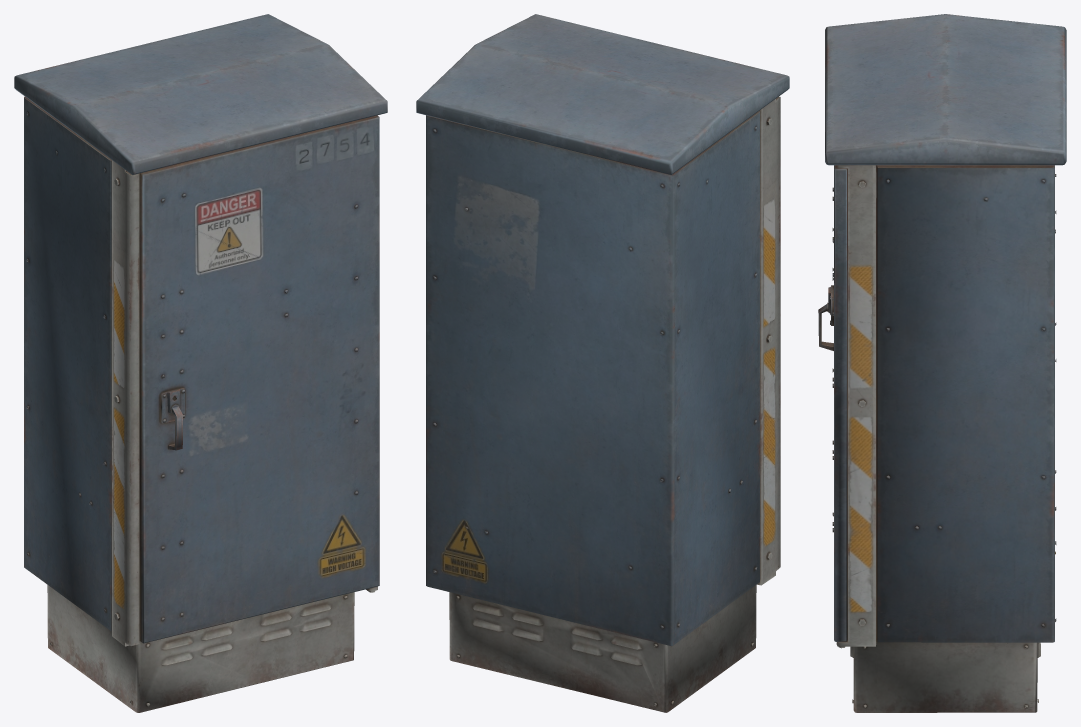
The model's file is utility_box_01.glb.
The picture shows the model from 3 angles, left to right: view 1: azimuth 30°, elevation 25°; view 2: azimuth 150°, elevation 25°; view 3: azimuth 270°, elevation 25°; orthographic projection.
Visible parts, largest first — view 1: utility_box_01_box; view 2: utility_box_01_box; view 3: utility_box_01_box.
Part boxes in pixels (x1=…): utility_box_01_box: x1=14, y1=14, x2=387, y2=712; utility_box_01_box: x1=416, y1=14, x2=789, y2=712; utility_box_01_box: x1=818, y1=14, x2=1066, y2=712.
Bounding box in the file's own units: 0.52 × 1.12 × 0.4312.
1 material, 1 textured.
